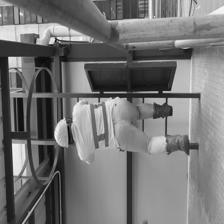Feet: (195, 88, 223, 131), (164, 128, 194, 160), (191, 139, 223, 168), (145, 89, 167, 126)
Hand: (92, 145, 119, 187), (114, 72, 151, 100), (74, 93, 89, 103)
Ladder: (27, 83, 207, 159), (7, 80, 193, 151)
